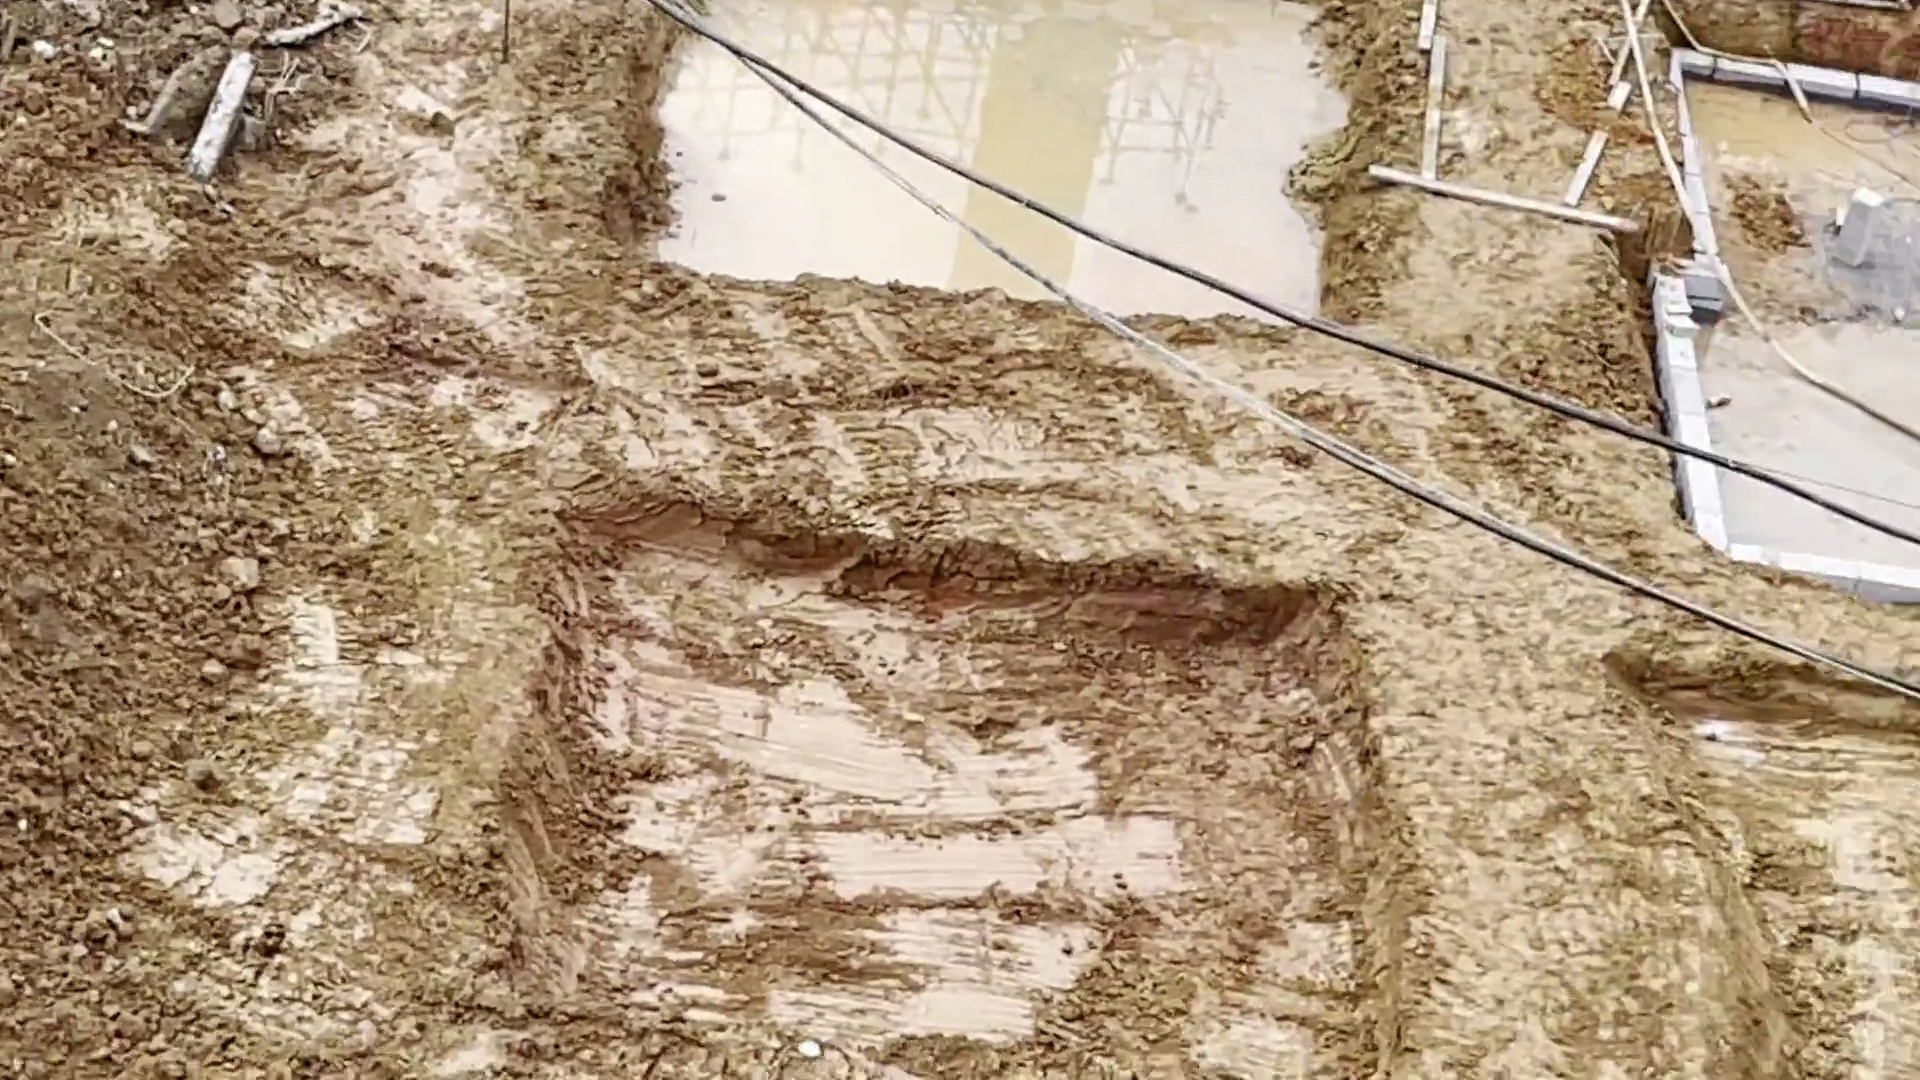brick: (1644, 262, 1718, 550), (1717, 47, 1917, 117), (1727, 538, 1920, 604), (1667, 50, 1716, 291)
